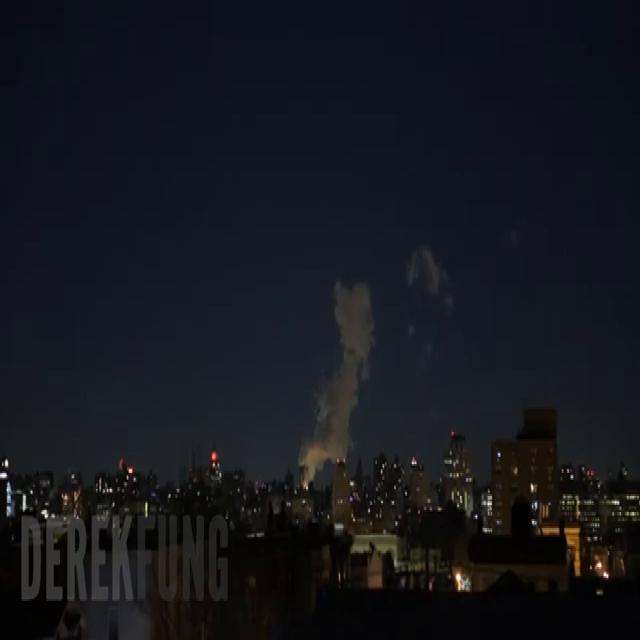smoke: (298, 279, 374, 468)
